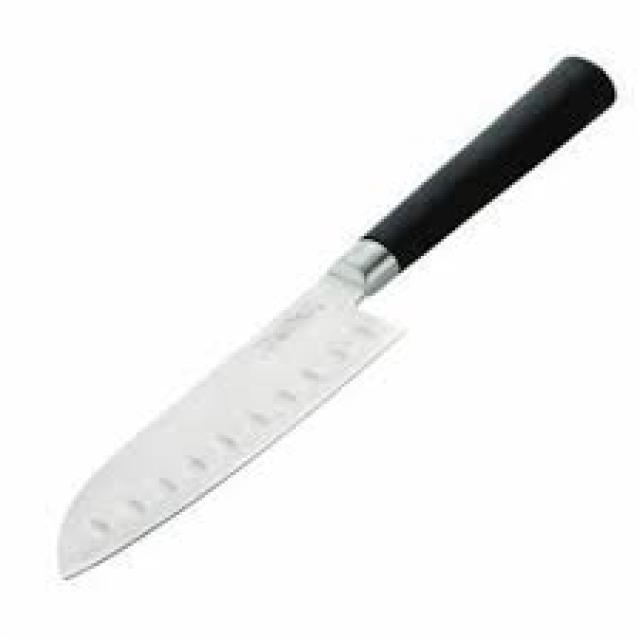knife: (42, 45, 622, 587)
